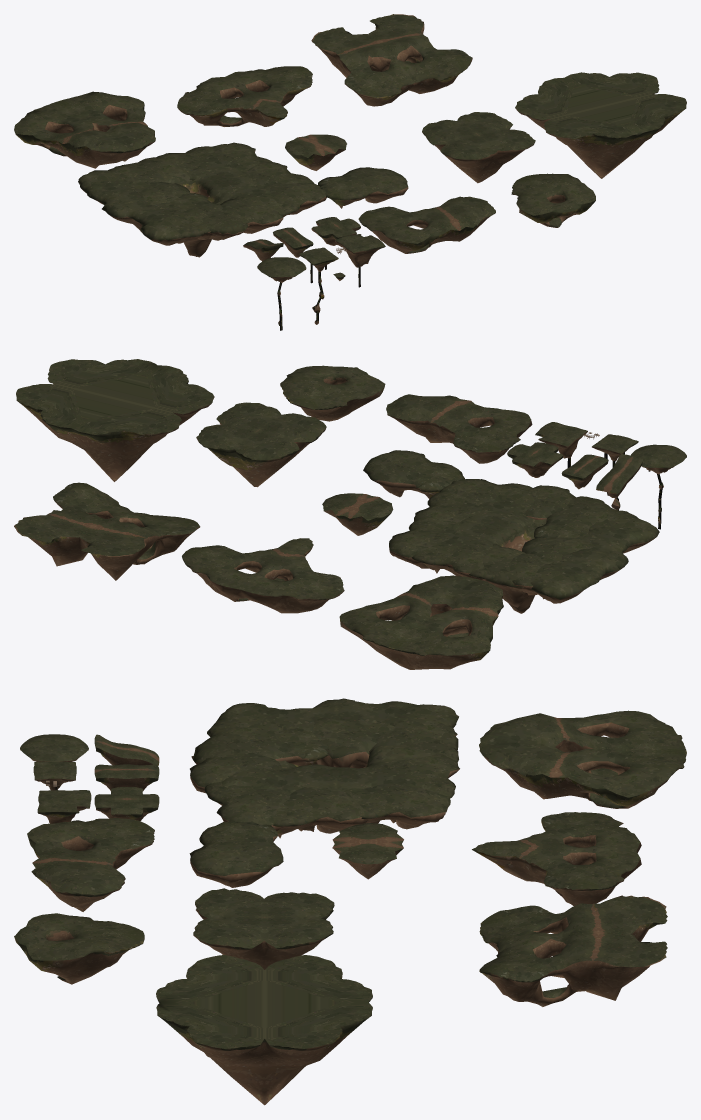
The model's file is buubbu.fbx.
The picture shows the model from 3 angles, top to bottom: view 1: azimuth 30°, elevation 25°; view 2: azimuth 150°, elevation 25°; view 3: azimuth 270°, elevation 25°; orthographic projection. The views are drawn at different scales.
Parts seen in each view (by area): view 1: IslandFlower.001, IslandLake, IslandBear, IslandSkull, IslandElephant, IslandFlower, IslandHole, IslandHoleSmall, Island, IslandPath, Island1.004, Island1.001 (+12 smaller); view 2: IslandFlower.001, IslandLake, IslandSkull, IslandBear, IslandElephant, IslandFlower, IslandHole, IslandHoleSmall, Island, IslandPath, Island1.008, Island1.007 (+12 smaller); view 3: IslandFlower.001, IslandBear, IslandSkull, IslandLake, IslandElephant, IslandFlower, IslandHole, IslandHoleSmall, Island, Island1.008, Island1.003, IslandPath (+12 smaller).
Boxes of the visible parts, box(x1,y1,x2,y2) form: IslandFlower.001: box(515, 72, 686, 178); IslandLake: box(78, 152, 293, 257); IslandBear: box(311, 14, 472, 106); IslandSkull: box(14, 91, 155, 168); IslandElephant: box(177, 66, 312, 126); IslandFlower: box(422, 112, 535, 183); IslandHole: box(358, 196, 495, 253); IslandHoleSmall: box(511, 173, 595, 227); Island: box(318, 167, 408, 208); IslandPath: box(285, 134, 346, 170); Island1.004: box(268, 182, 326, 217); Island1.001: box(220, 198, 283, 233); IslandFlower.001: box(16, 359, 214, 481); IslandLake: box(431, 488, 659, 613); IslandSkull: box(339, 575, 503, 669); IslandBear: box(14, 482, 200, 580); IslandElephant: box(182, 538, 344, 613); IslandFlower: box(196, 402, 326, 487); IslandHole: box(386, 394, 532, 463); IslandHoleSmall: box(280, 365, 385, 421); Island: box(363, 450, 464, 498); IslandPath: box(322, 493, 393, 535); Island1.008: box(389, 520, 460, 568); Island1.007: box(411, 543, 500, 580); IslandFlower.001: box(156, 955, 372, 1105); IslandBear: box(479, 895, 667, 1006); IslandSkull: box(479, 710, 686, 808); IslandLake: box(191, 698, 458, 831); IslandElephant: box(472, 812, 641, 905); IslandFlower: box(193, 888, 334, 969); IslandHole: box(27, 818, 154, 911); IslandHoleSmall: box(14, 913, 144, 984); Island: box(189, 821, 283, 887); Island1.008: box(344, 783, 450, 829); Island1.003: box(272, 787, 368, 838); IslandPath: box(332, 823, 403, 879).
Size of the model in its own units: 43403 by 6108 by 33771.
Materials: 3 (3 with a texture image).
